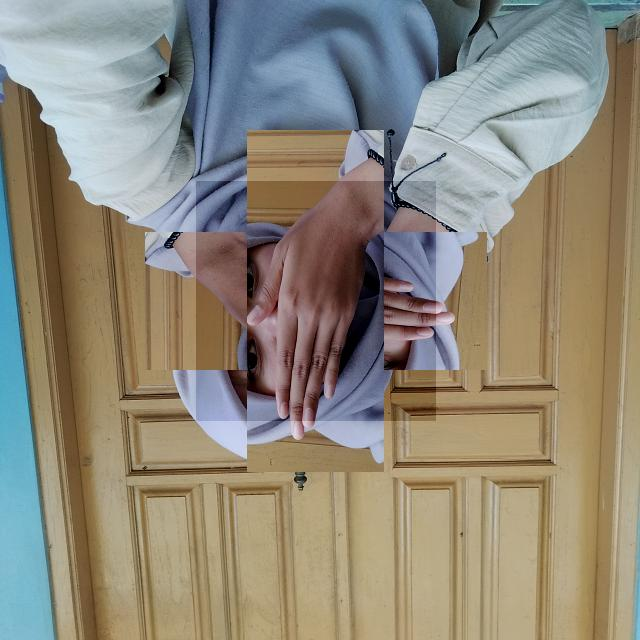buruk: (196, 181, 436, 421)
